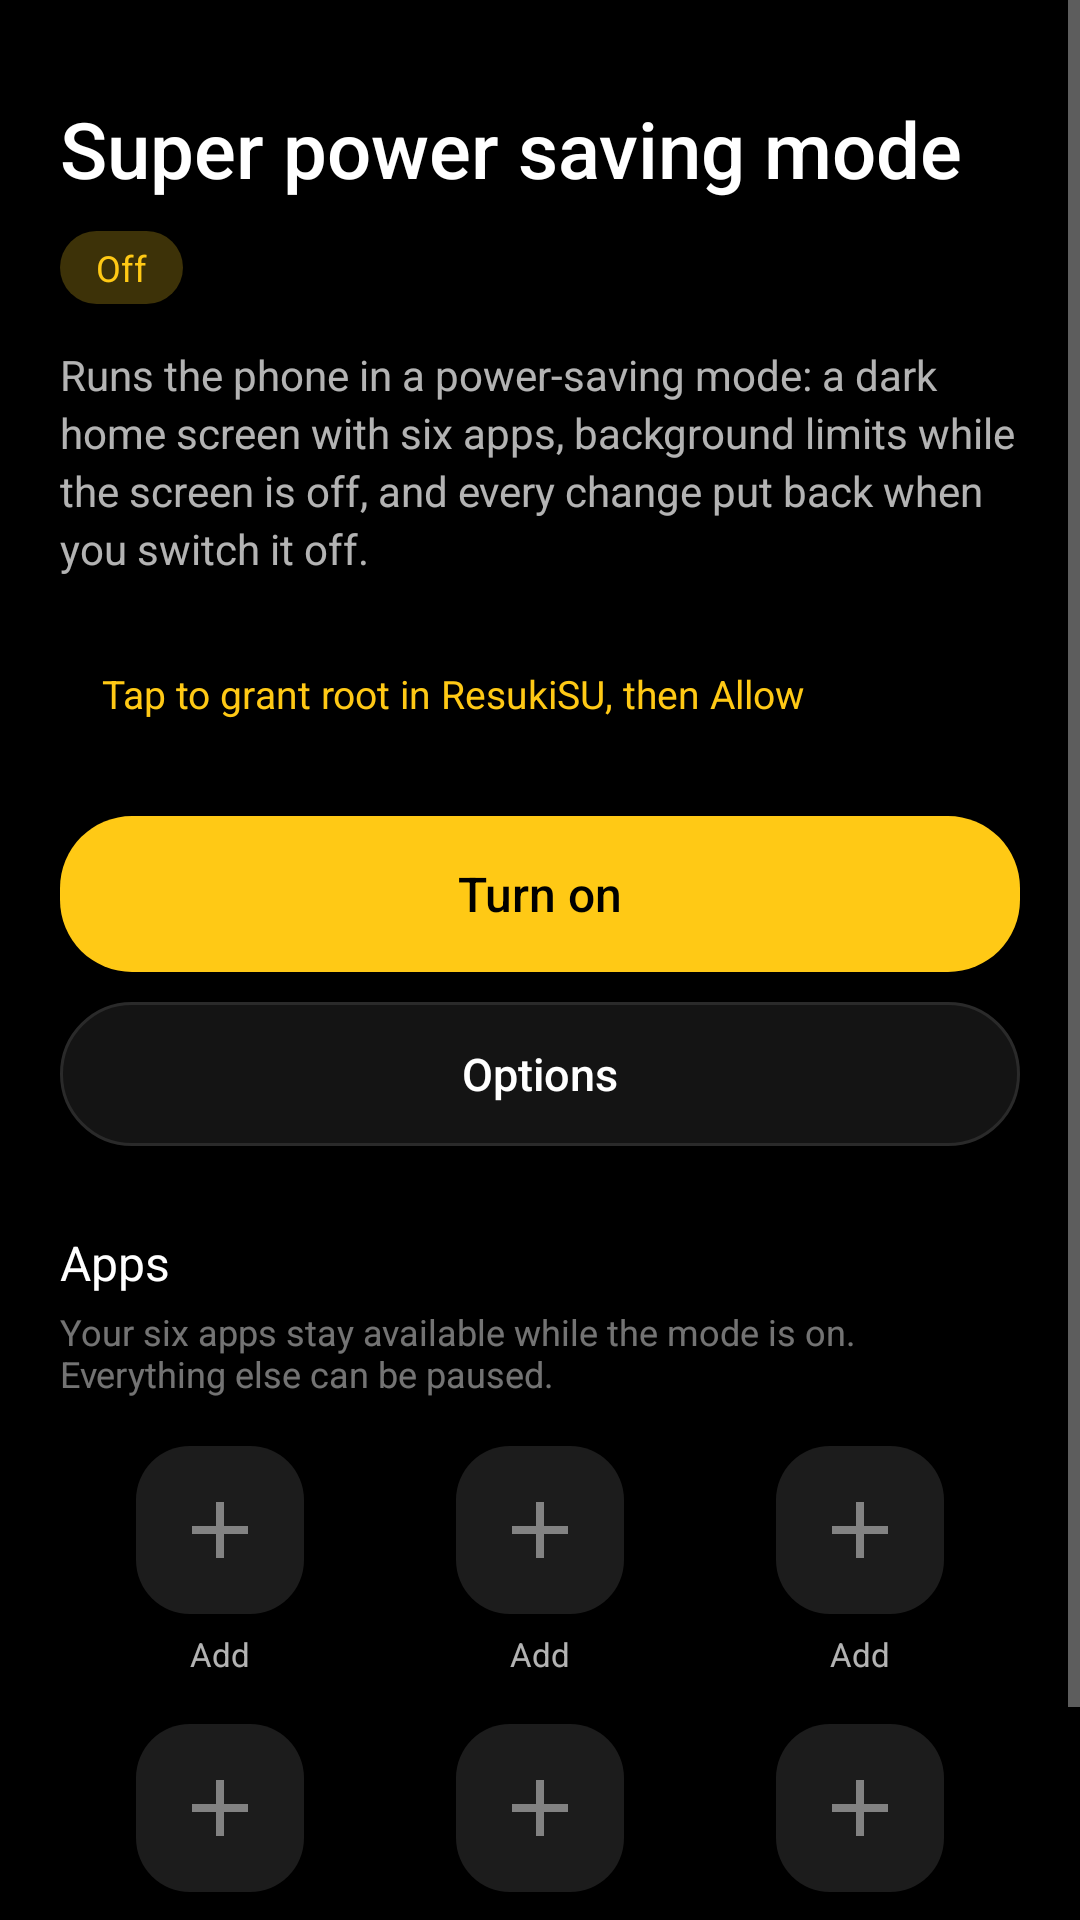

Icons on this 1080 x 1920 Android screen, each with the point to tap as point (x, y):
plus: point (220, 1530), point (540, 1530), point (860, 1530), point (220, 1808), point (540, 1808), point (860, 1808)
